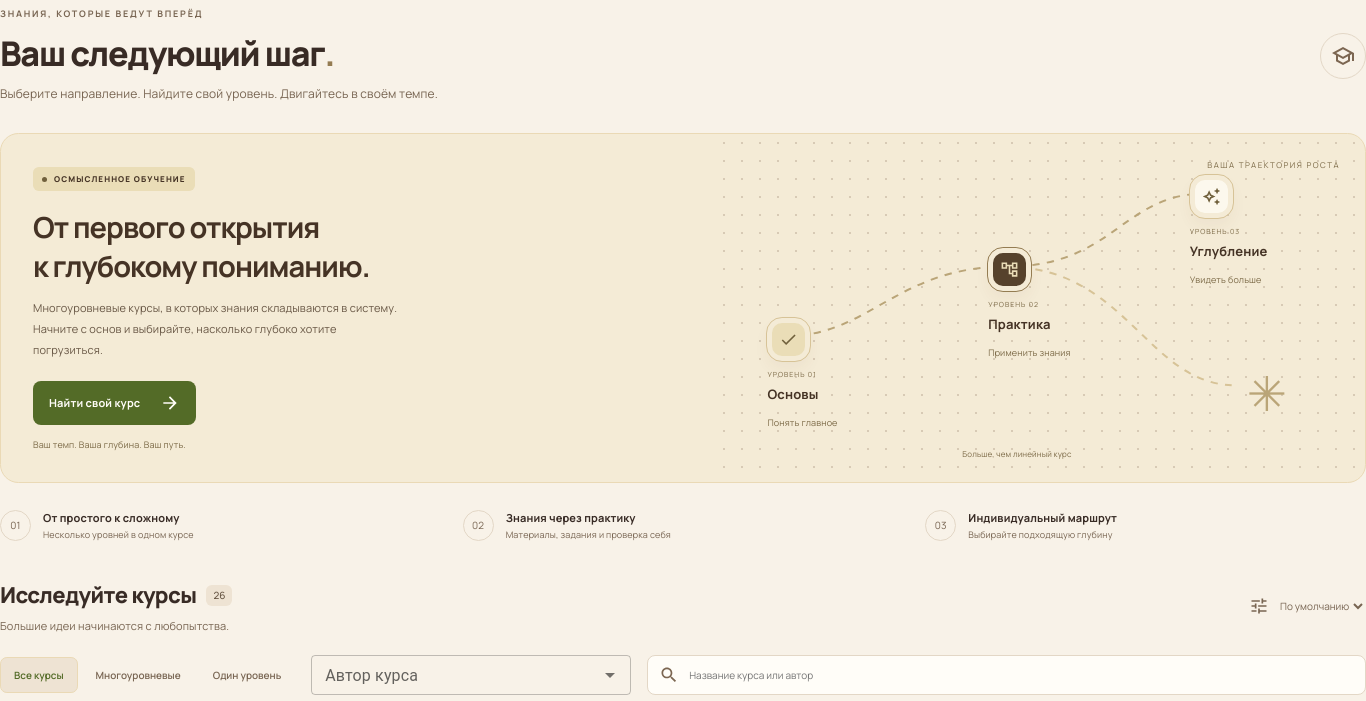
empty filtered results reset all filters including the author
Click the button named "Выбрать автора".
click(610, 675)  # box [596,661,624,689]
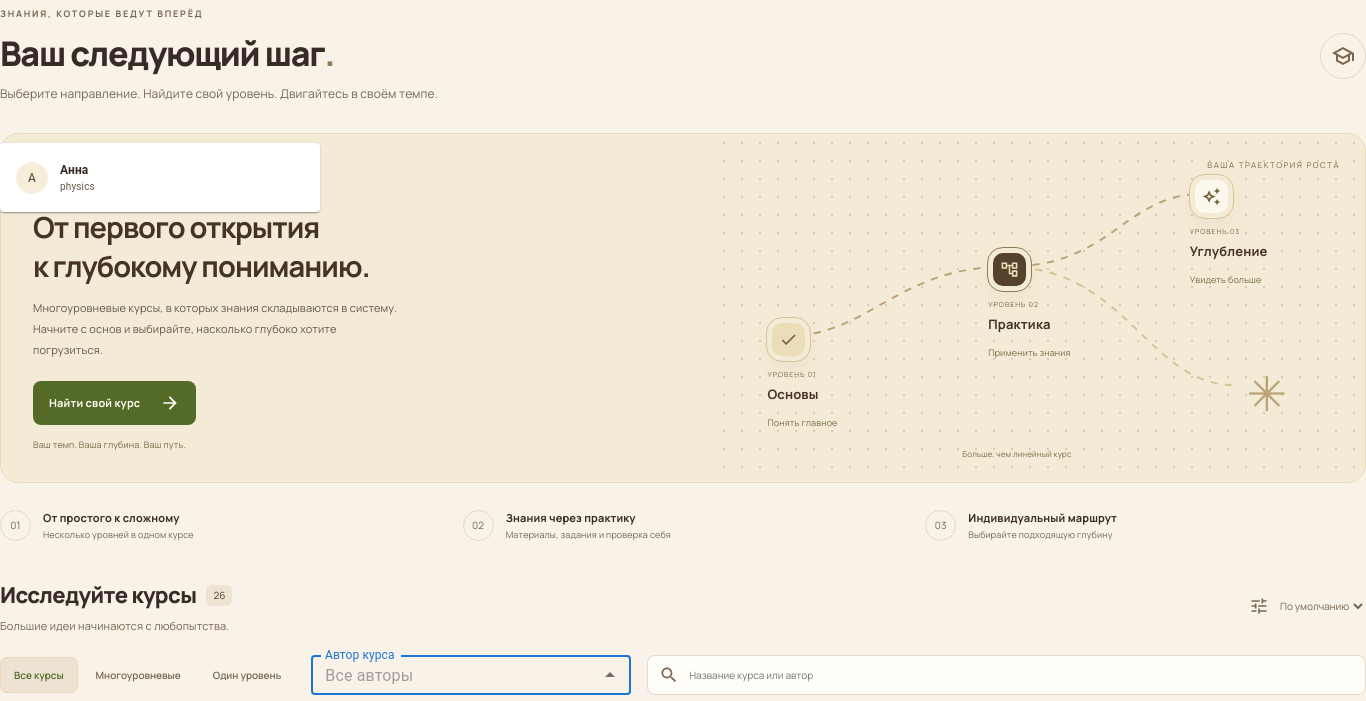
Click the option "А Анна physics".
click(32, 178)  # box [16,162,95,194]
(page scrolled)
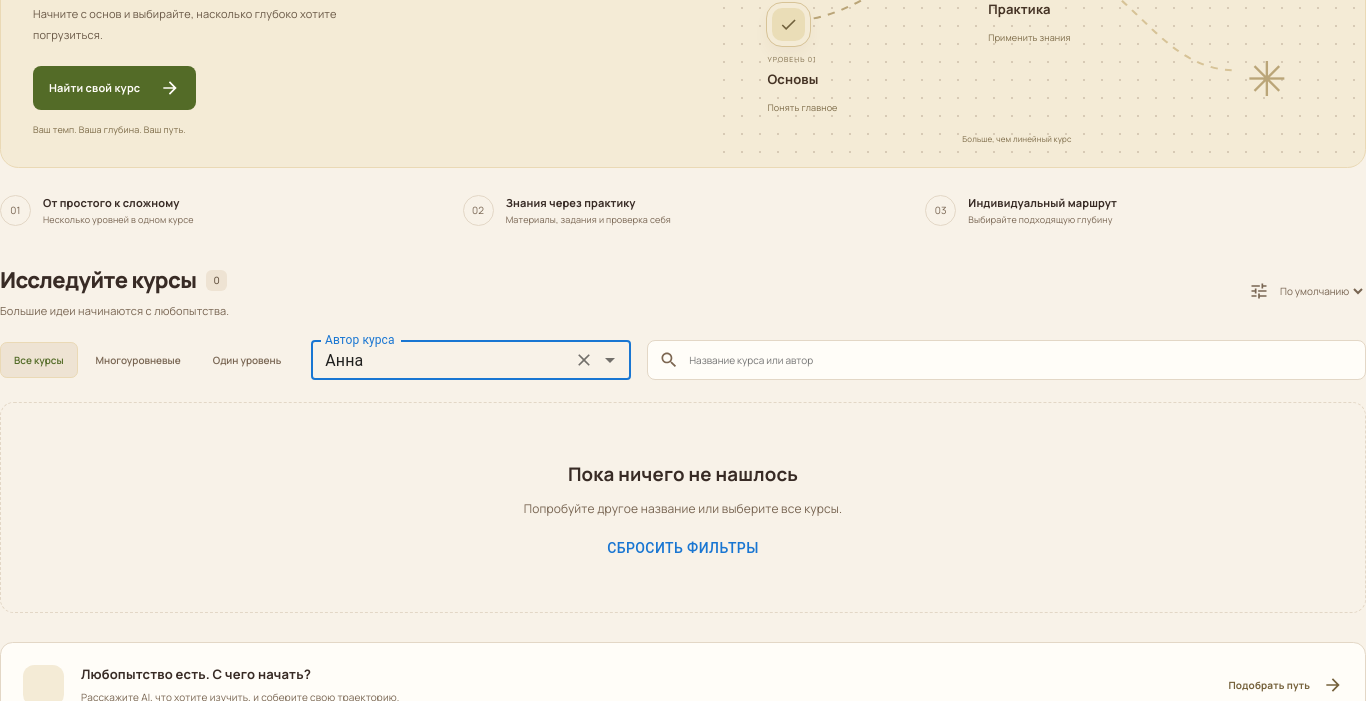
Check: the text "Пока ничего не нашлось" is shown, box [568,461,798,487]
Click the button "Сбросить фильтры".
click(683, 548)  # box [599,530,767,567]
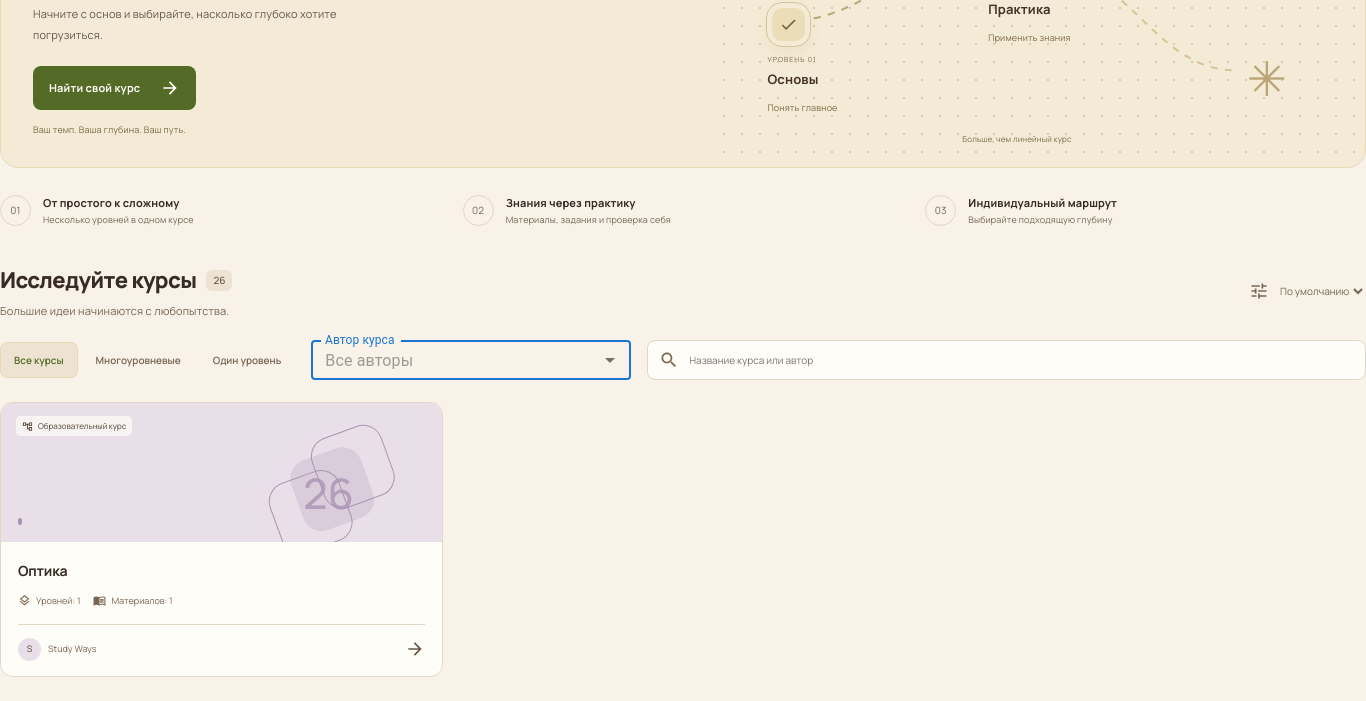
Check: the dropdown with placeholder "Все авторы" is empty, box [317,346,592,374]
